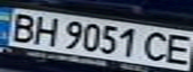0: (78, 20, 103, 53)
1: (118, 26, 142, 59)
5: (100, 24, 121, 56)
9: (57, 18, 84, 51)
B: (3, 10, 42, 43)
C: (139, 29, 175, 63)
E: (160, 32, 193, 65)
H: (27, 14, 63, 47)
